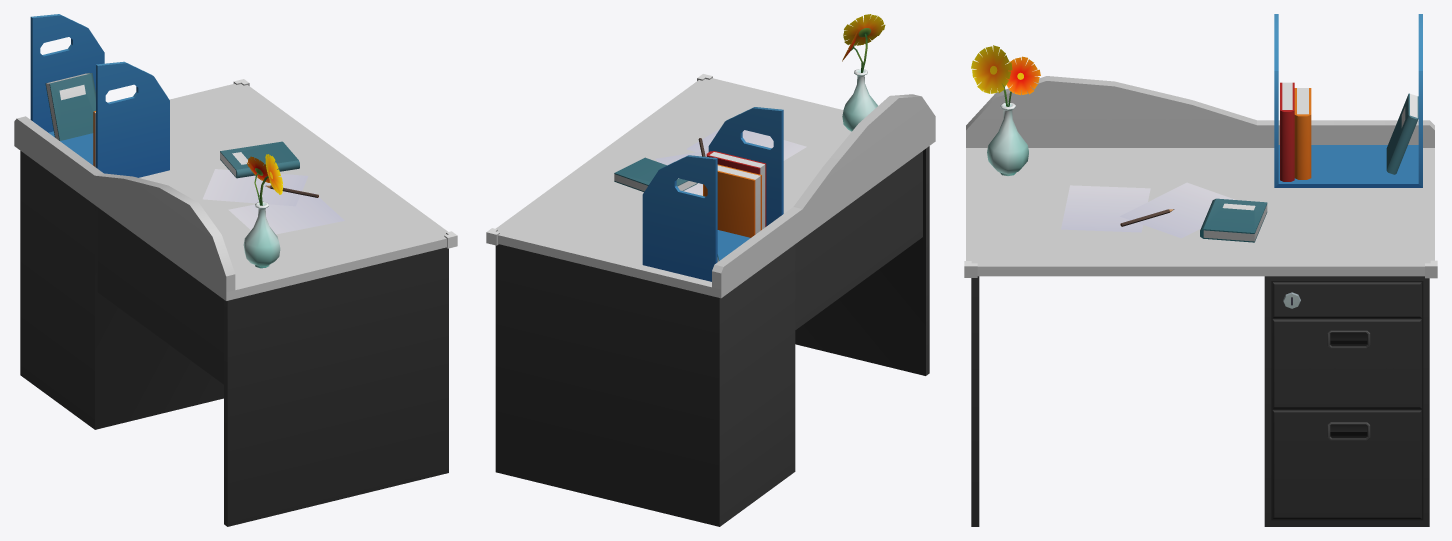
Rendered from CR_TDesk_002.FBX.
3 views of the same model, side by side, from view 1: azimuth 30°, elevation 25°; view 2: azimuth 150°, elevation 25°; view 3: azimuth 270°, elevation 25° (orthographic). The views are drawn at different scales.
Parts seen in each view (by area): view 1: CR_TDesk_002; view 2: CR_TDesk_002; view 3: CR_TDesk_002.
Part boxes in pixels (x1,y1,x2,y2): CR_TDesk_002: (14,14,457,526); CR_TDesk_002: (486,14,935,526); CR_TDesk_002: (964,14,1437,526).
Bounding box in the file's own units: 70.7 × 105 × 113.
